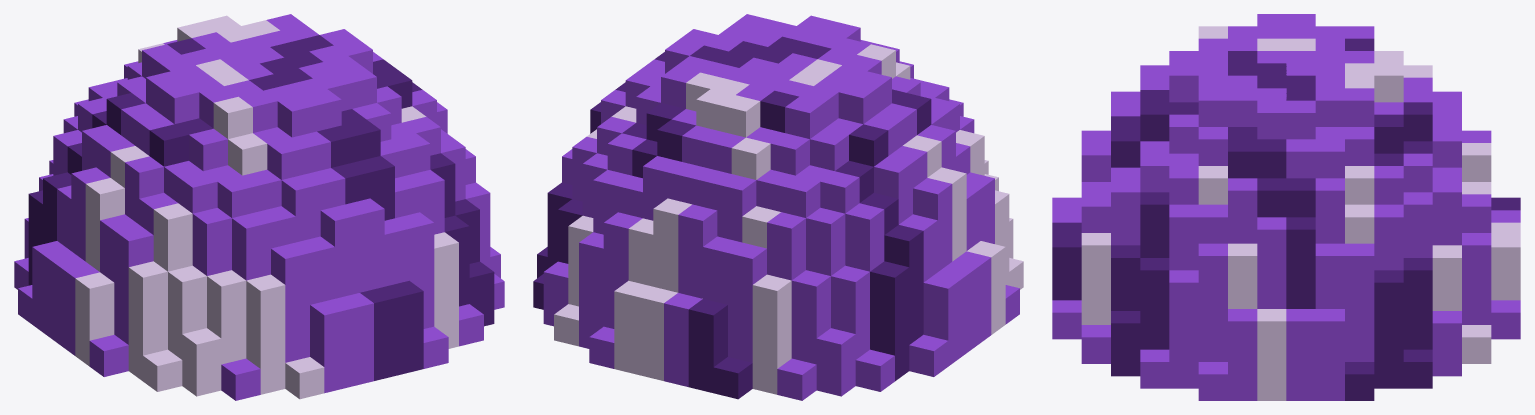
Rendered from coral_brain.glb.
3 views of the same model, side by side, from view 1: azimuth 30°, elevation 25°; view 2: azimuth 150°, elevation 25°; view 3: azimuth 270°, elevation 25° (orthographic). The views are drawn at different scales.
Visible parts, largest first — view 1: coral; view 2: coral; view 3: coral.
Part boxes in pixels (box(x1,y1,x2,y2)): coral: box(14, 14, 504, 400); coral: box(533, 14, 1023, 400); coral: box(1052, 14, 1520, 400).
Bounding box in the file's own units: 1 × 0.5625 × 1.
Materials: 1 (1 with a texture image).
